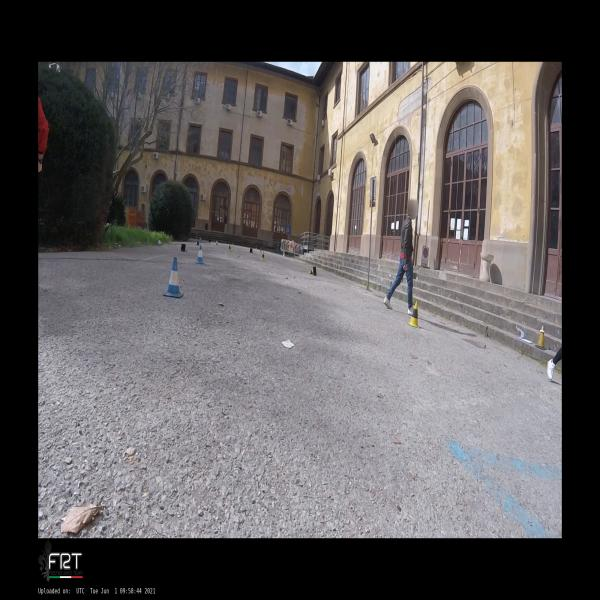blue_cone: (163, 257, 183, 299), (195, 246, 205, 264), (158, 238, 161, 248), (215, 240, 218, 245)
unknown_cone: (535, 326, 546, 351), (180, 243, 187, 252), (249, 248, 253, 254), (195, 241, 199, 245)
yellow_cone: (407, 301, 419, 328), (308, 267, 317, 276), (260, 251, 266, 261), (228, 244, 232, 252)
